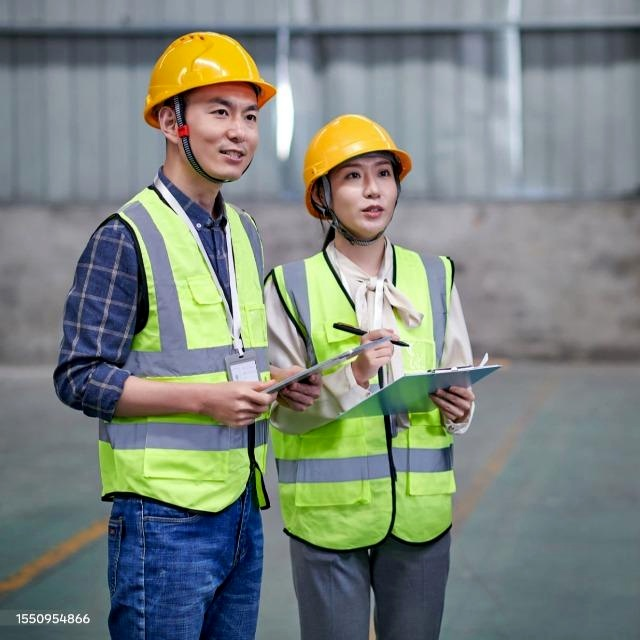Con_Chaleco: (276, 247, 477, 550), (90, 194, 267, 497)
